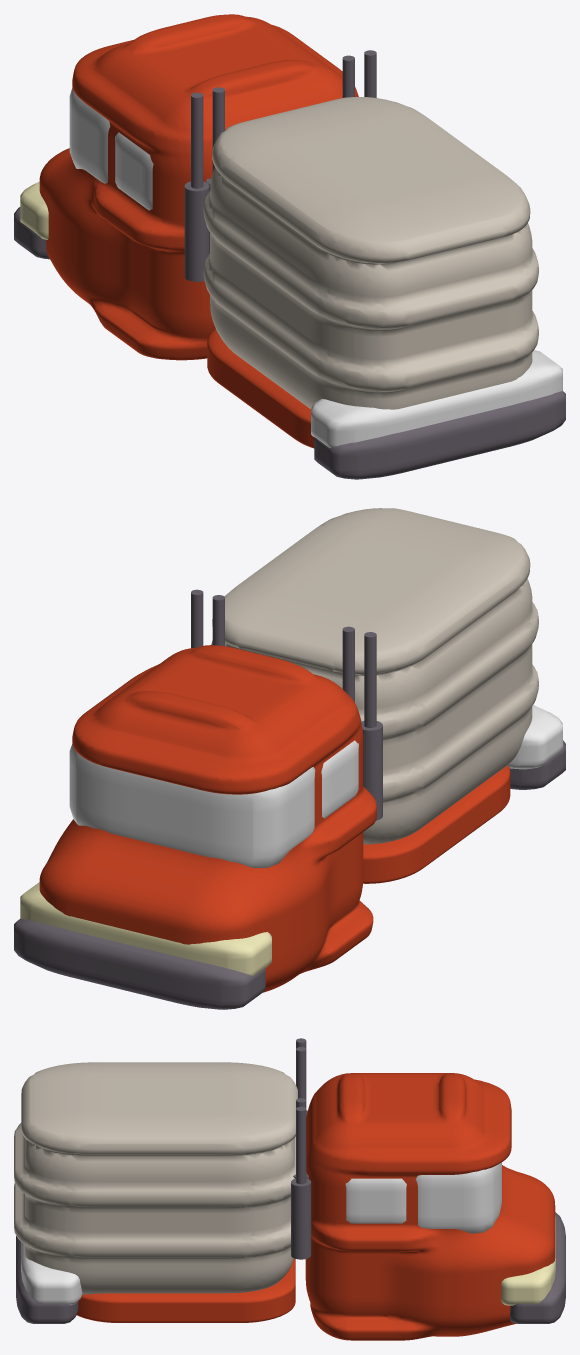
Rendered from metaball-truck.fbx.
3 renders of one model, top to bottom at view 1: azimuth 30°, elevation 25°; view 2: azimuth 150°, elevation 25°; view 3: azimuth 270°, elevation 25°, orthographic. The views are drawn at different scales.
Parts seen in each view (by area): view 1: Cargo, Truck, bumper, red-lights, Trailer, front-window, exhaust-base.002, back-window, exhaust-pipe.002, white-lights, exhaust-pipe.003, exhaust-pipe; view 2: Truck, Cargo, front-window, bumper, Trailer, white-lights, red-lights, back-window, exhaust-base.002, exhaust-pipe.002, exhaust-pipe.003, exhaust-pipe (+1 smaller); view 3: Cargo, Truck, Trailer, front-window, bumper, back-window, red-lights, white-lights, exhaust-base, exhaust-pipe, exhaust-pipe.003.
Part boxes in pixels (x1,y1,x2,y2): Cargo: (203,97,538,409); Truck: (39,14,358,360); bumper: (14,207,565,479); red-lights: (311,350,562,447); Trailer: (207,328,314,448); front-window: (69,87,110,183); exhaust-base.002: (184,181,209,281); back-window: (115,132,153,210); exhaust-pipe.002: (191,92,203,188); white-lights: (20,181,48,239); exhaust-pipe.003: (212,87,224,172); exhaust-pipe: (364,50,376,97); Truck: (39,645,376,992); Cargo: (211,508,538,844); front-window: (69,744,315,867); bumper: (14,740,565,1009); Trailer: (363,765,510,883); white-lights: (20,882,271,975); red-lights: (507,705,562,769); back-window: (321,740,358,818); exhaust-base.002: (361,721,382,820); exhaust-pipe.002: (364,632,376,727); exhaust-pipe.003: (342,626,354,702); exhaust-pipe: (191,589,203,647); Cargo: (14,1062,297,1294); Truck: (305,1073,555,1340); Trailer: (76,1258,295,1322); front-window: (415,1162,501,1233); bumper: (16,1212,565,1323); back-window: (345,1178,406,1223); red-lights: (21,1242,82,1305); white-lights: (501,1215,555,1305); exhaust-base: (291,1178,311,1259); exhaust-pipe: (296,1106,306,1184); exhaust-pipe.003: (296,1047,306,1099).
Bounding box in the file's own units: 443 × 513 × 1093.
